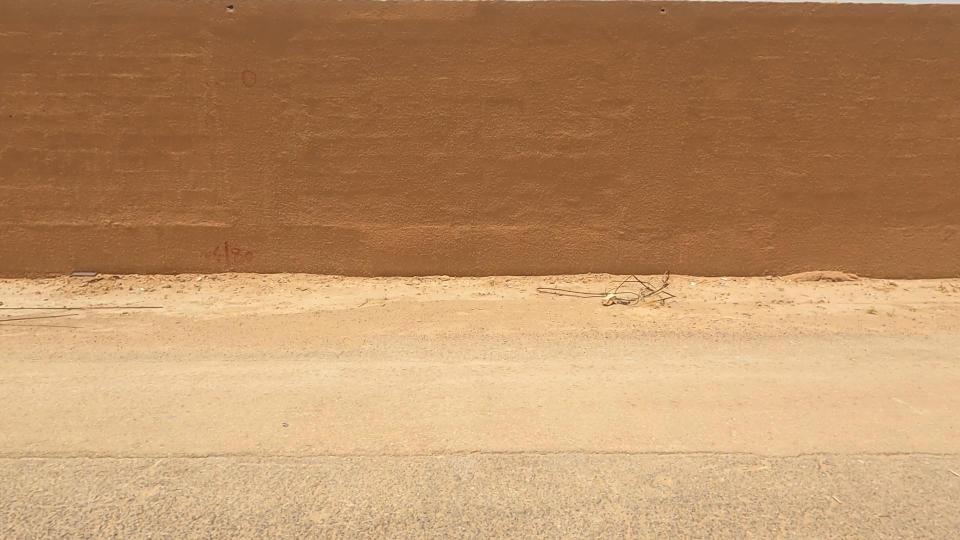GARBAGE: (485, 232, 754, 358)
